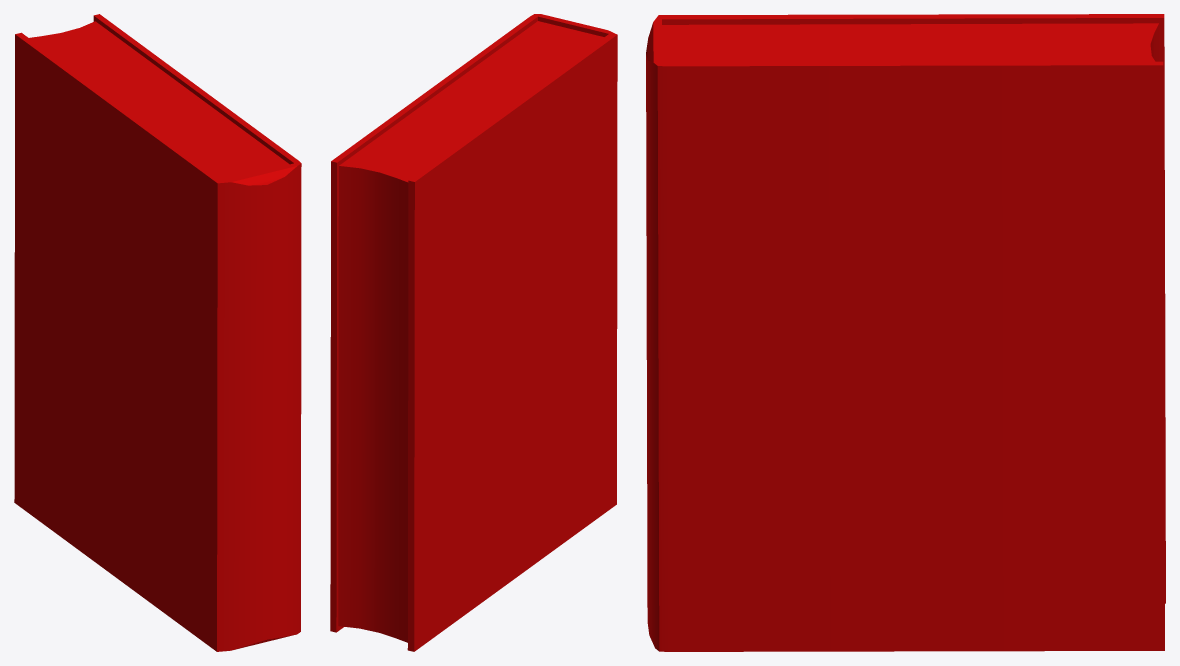
The model's file is Attic_Book_01_LP.glb.
The picture shows the model from 3 angles, left to right: view 1: azimuth 30°, elevation 25°; view 2: azimuth 150°, elevation 25°; view 3: azimuth 270°, elevation 25°; orthographic projection. The views are drawn at different scales.
Visible parts, largest first — view 1: Attic_Book_01_LP; view 2: Attic_Book_01_LP; view 3: Attic_Book_01_LP.
Part boxes in pixels (box(x1,y1,x2,y2)): Attic_Book_01_LP: box(14, 14, 301, 651); Attic_Book_01_LP: box(330, 14, 617, 651); Attic_Book_01_LP: box(646, 14, 1165, 651).
Bounding box in the file's own units: 0.0699 × 0.3734 × 0.2999.
